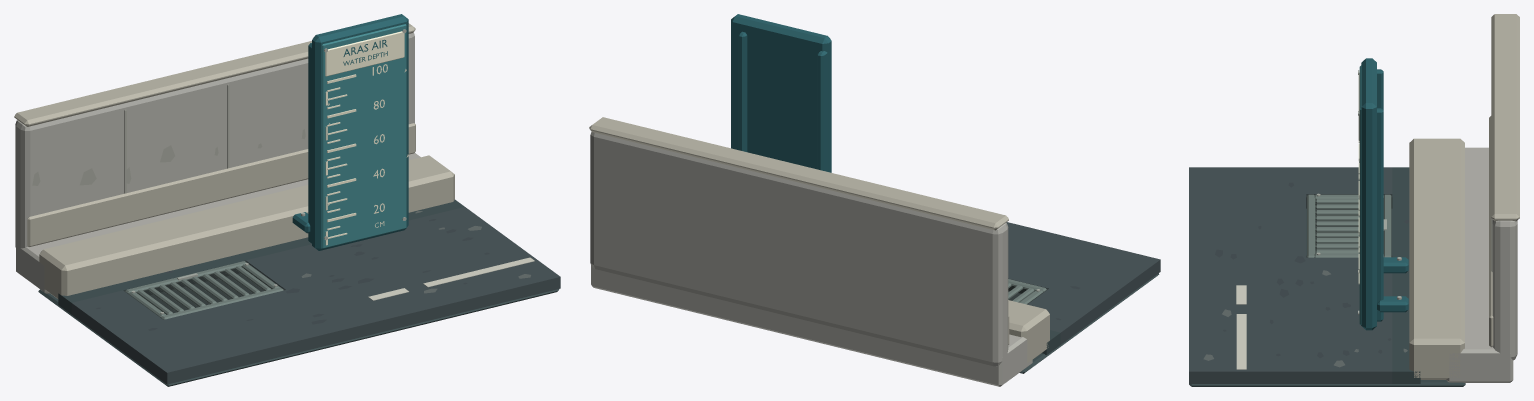
Rendered from monsoon-underpass-depth-marker.glb.
3 views of the same model, side by side, from view 1: azimuth 30°, elevation 25°; view 2: azimuth 150°, elevation 25°; view 3: azimuth 270°, elevation 25° (orthographic). The views are drawn at different scales.
Visible parts, largest first — view 1: Cropped underpass roadway and curb | Deep blue-gray mottled , Cropped underpass roadway and curb | Sand grey cast concrete, Cropped underpass roadway and curb | Pale concrete back and , Removable ruler housing and mounting | Weathered blue green , Removable ruler housing and mounting | Deep muted petrol pow, Cropped underpass roadway and curb | Wet-weather darker gutt, Open recessed drain and metal grate | Patinated cast grate, , Removable ruler housing and mounting | Warm pale reflective-, Bilingual labels, scale and weathering | Warm pale reflectiv, Open recessed drain and metal grate | Pitch inside unlit dra, Cropped underpass roadway and curb | Dry taupe splash and so, Cropped underpass roadway and curb | Old off-white crop road (+1 smaller); view 2: Cropped underpass roadway and curb | Pale concrete back and , Removable ruler housing and mounting | Deep muted petrol pow, Cropped underpass roadway and curb | Deep blue-gray mottled , Cropped underpass roadway and curb | Sand grey cast concrete, Cropped underpass roadway and curb | Wet-weather darker gutt, Open recessed drain and metal grate | Patinated cast grate, ; view 3: Cropped underpass roadway and curb | Deep blue-gray mottled , Cropped underpass roadway and curb | Sand grey cast concrete, Cropped underpass roadway and curb | Pale concrete back and , Removable ruler housing and mounting | Deep muted petrol pow, Cropped underpass roadway and curb | Wet-weather darker gutt, Open recessed drain and metal grate | Patinated cast grate, , Cropped underpass roadway and curb | Old off-white crop road, Removable ruler housing and mounting | Weathered blue green , Cropped underpass roadway and curb | Slate damp discoloratio.
Boxes of the visible parts, left/top/right/bottom form: Cropped underpass roadway and curb | Deep blue-gray mottled : left=71, top=207, right=560, bottom=384; Cropped underpass roadway and curb | Sand grey cast concrete: left=14, top=23, right=454, bottom=298; Cropped underpass roadway and curb | Pale concrete back and : left=15, top=32, right=420, bottom=293; Removable ruler housing and mounting | Weathered blue green : left=321, top=24, right=406, bottom=248; Removable ruler housing and mounting | Deep muted petrol pow: left=292, top=14, right=408, bottom=250; Cropped underpass roadway and curb | Wet-weather darker gutt: left=38, top=199, right=559, bottom=386; Open recessed drain and metal grate | Patinated cast grate, : left=125, top=261, right=283, bottom=319; Removable ruler housing and mounting | Warm pale reflective-: left=325, top=31, right=404, bottom=76; Bilingual labels, scale and weathering | Warm pale reflectiv: left=325, top=64, right=387, bottom=245; Open recessed drain and metal grate | Pitch inside unlit dra: left=124, top=261, right=284, bottom=319; Cropped underpass roadway and curb | Dry taupe splash and so: left=32, top=84, right=305, bottom=193; Cropped underpass roadway and curb | Old off-white crop road: left=368, top=257, right=534, bottom=300; Cropped underpass roadway and curb | Pale concrete back and : left=590, top=131, right=1032, bottom=386; Removable ruler housing and mounting | Deep muted petrol pow: left=731, top=14, right=831, bottom=172; Cropped underpass roadway and curb | Deep blue-gray mottled : left=1006, top=222, right=1160, bottom=344; Cropped underpass roadway and curb | Sand grey cast concrete: left=589, top=117, right=1049, bottom=362; Cropped underpass roadway and curb | Wet-weather darker gutt: left=1019, top=273, right=1159, bottom=373; Open recessed drain and metal grate | Patinated cast grate, : left=1008, top=279, right=1046, bottom=304; Cropped underpass roadway and curb | Deep blue-gray mottled : left=1189, top=167, right=1392, bottom=383; Cropped underpass roadway and curb | Sand grey cast concrete: left=1409, top=14, right=1519, bottom=379; Cropped underpass roadway and curb | Pale concrete back and : left=1446, top=147, right=1517, bottom=382; Removable ruler housing and mounting | Deep muted petrol pow: left=1361, top=58, right=1408, bottom=330; Cropped underpass roadway and curb | Wet-weather darker gutt: left=1189, top=167, right=1465, bottom=386; Open recessed drain and metal grate | Patinated cast grate, : left=1307, top=194, right=1391, bottom=257; Cropped underpass roadway and curb | Old off-white crop road: left=1236, top=285, right=1246, bottom=369; Removable ruler housing and mounting | Weathered blue green : left=1359, top=65, right=1361, bottom=325; Cropped underpass roadway and curb | Slate damp discoloratio: left=1215, top=182, right=1409, bottom=358.
Size of the model in its own units: 2.38 by 1.35 by 1.63.
